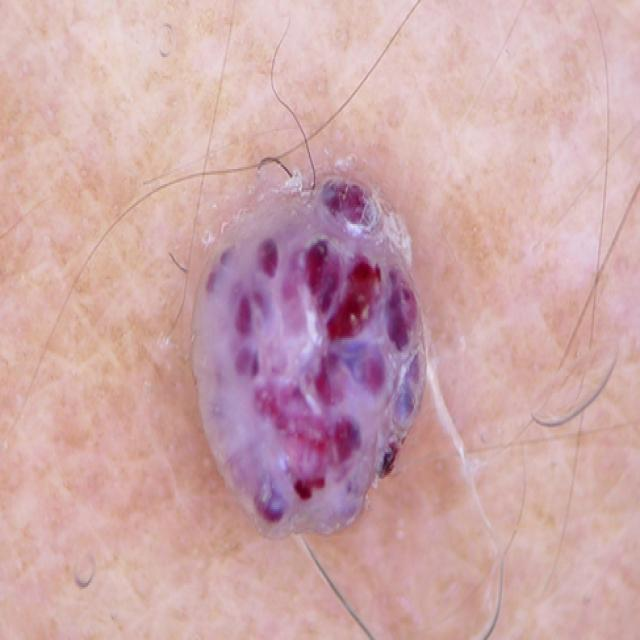Vascular Lesions: (146, 157, 534, 623)
